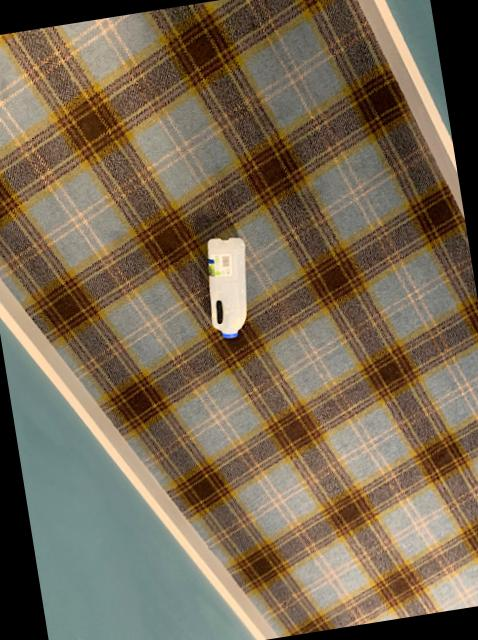plastic: (206, 239, 244, 339)
